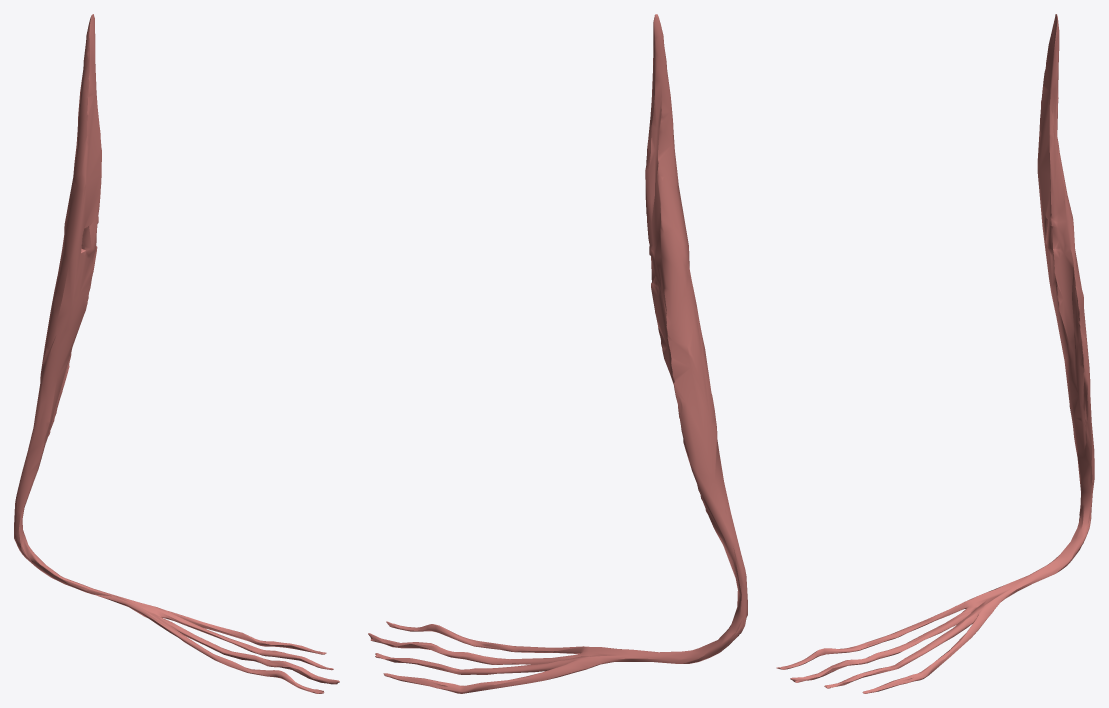
Rendered from fma65017_fj1414m.glb.
3 renders of one model, left to right at view 1: azimuth 30°, elevation 25°; view 2: azimuth 210°, elevation 25°; view 3: azimuth 270°, elevation 25°, orthographic. The views are drawn at different scales.
Parts seen in each view (by area): view 1: FMA65017_FJ1414M; view 2: FMA65017_FJ1414M; view 3: FMA65017_FJ1414M.
Part boxes in pixels (box(x1,y1,x2,y2)): FMA65017_FJ1414M: box(14, 14, 339, 693); FMA65017_FJ1414M: box(368, 14, 747, 693); FMA65017_FJ1414M: box(776, 14, 1094, 693).
Size of the model in its own units: 0.1264 by 0.3631 by 0.1704.
